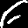E: (0, 0, 28, 28)
